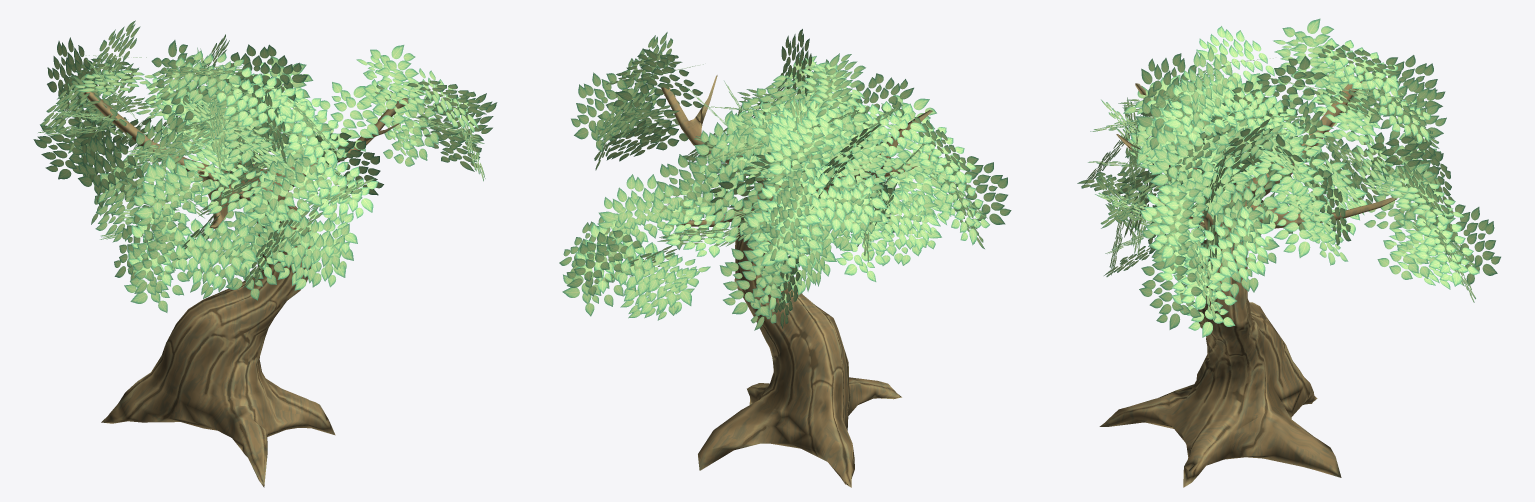
The model's file is treeeee.fbx.
3 renders of one model, left to right at view 1: azimuth 30°, elevation 25°; view 2: azimuth 150°, elevation 25°; view 3: azimuth 270°, elevation 25°, orthographic. The views are drawn at different scales.
Parts seen in each view (by area): view 1: group6_pPlane3, matchsize1; view 2: group6_pPlane3, matchsize1; view 3: group6_pPlane3, matchsize1.
Part boxes in pixels (bbox=[...]): group6_pPlane3: bbox=[33, 20, 497, 312]; matchsize1: bbox=[81, 91, 409, 487]; group6_pPlane3: bbox=[559, 29, 1011, 330]; matchsize1: bbox=[661, 75, 932, 487]; group6_pPlane3: bbox=[1077, 18, 1500, 337]; matchsize1: bbox=[1099, 81, 1397, 487].
Size of the model in its own units: 5.9 by 5.32 by 5.21.
